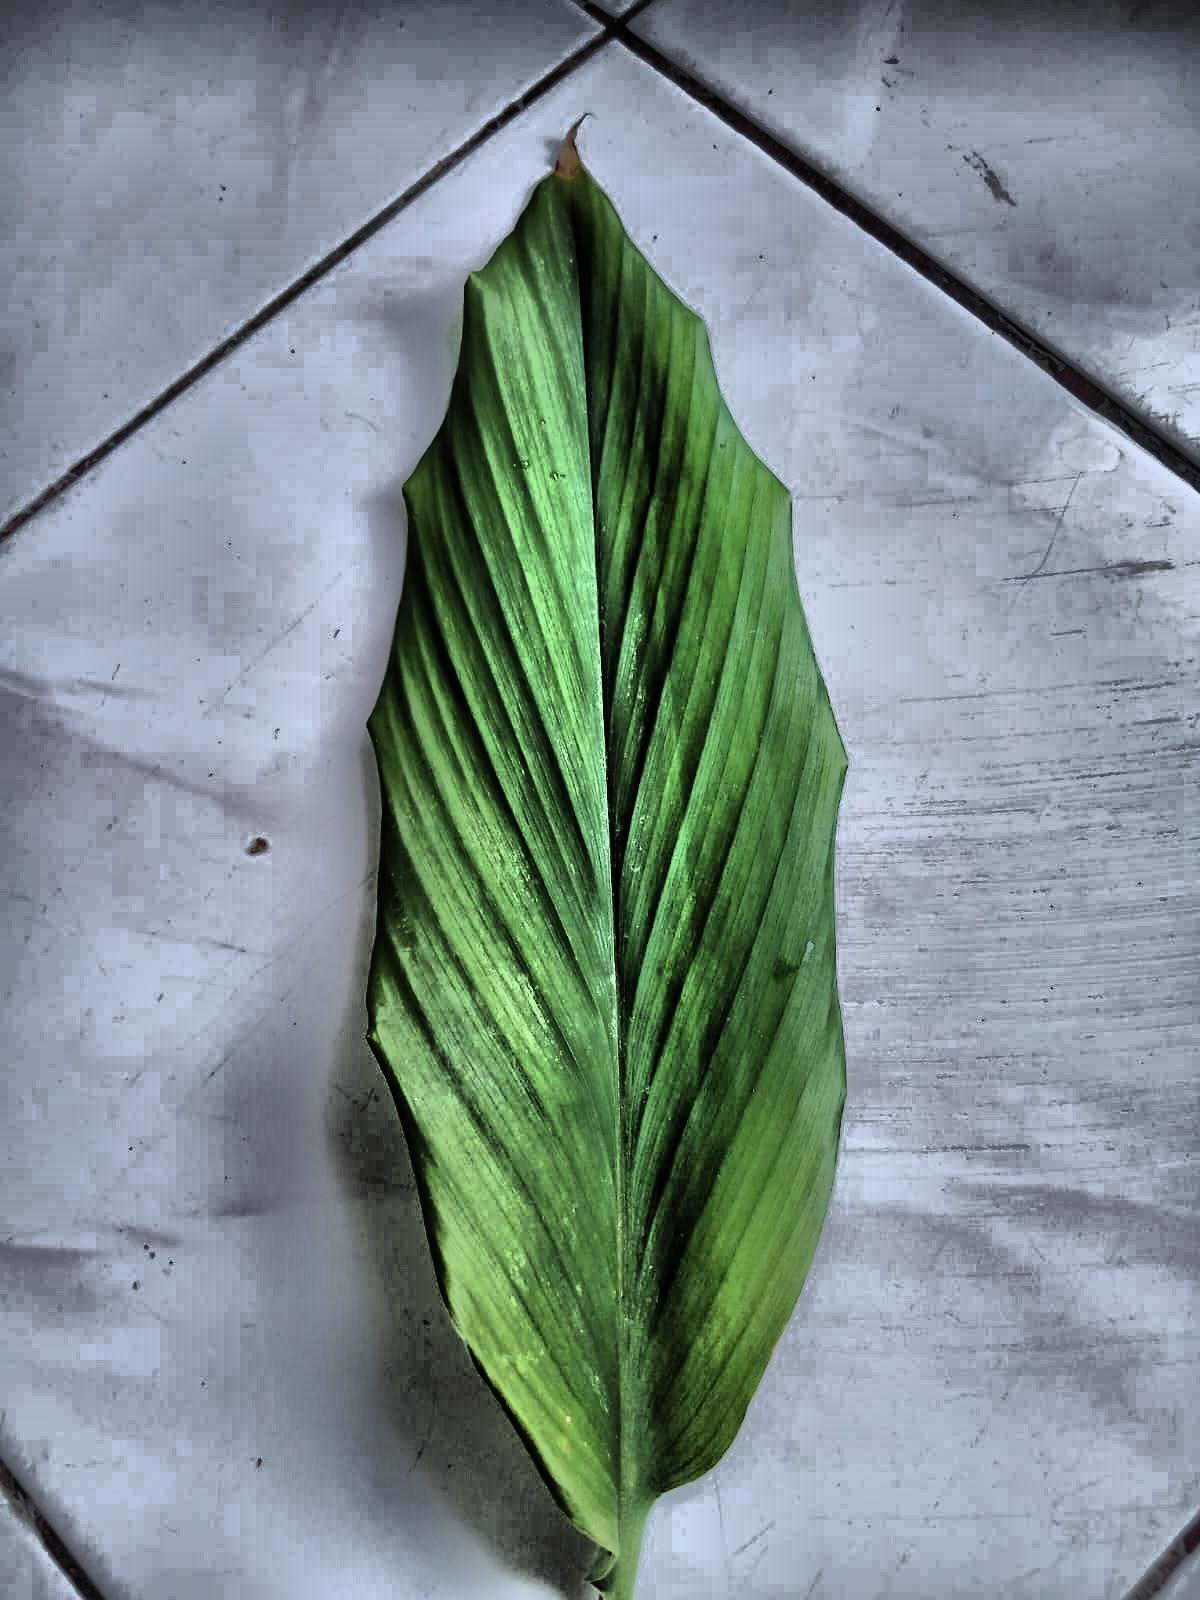daun kunyit: (367, 142, 846, 1599)
